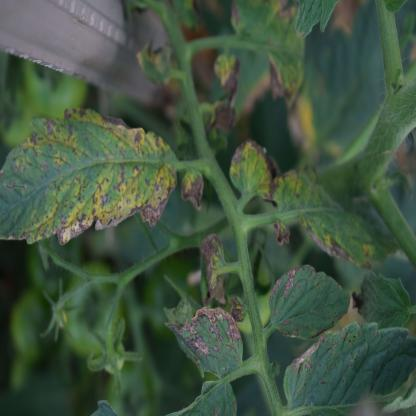tomato septoria leaf spot: (5, 103, 177, 265), (254, 170, 401, 263), (213, 129, 292, 198)
